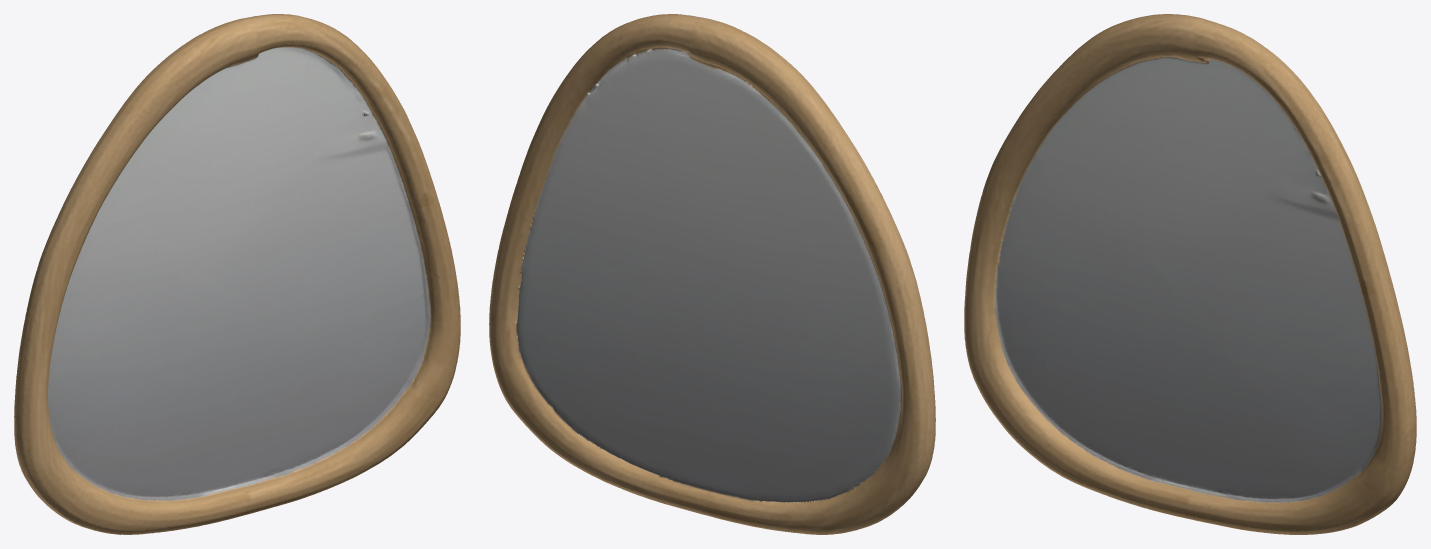
The model's file is organic-wood-mirror-light-oak.glb.
3 views of the same model, side by side, from view 1: azimuth 30°, elevation 25°; view 2: azimuth 150°, elevation 25°; view 3: azimuth 330°, elevation 25° (orthographic).
Parts seen in each view (by area): view 1: world; view 2: world; view 3: world.
Boxes of the visible parts, x1,y1,x2,y2 form: world: (14,14,460,534); world: (489,14,935,534); world: (964,14,1416,534).
Bounding box in the file's own units: 0.9406 × 1 × 0.0649.
Materials: 1 (1 with a texture image).
